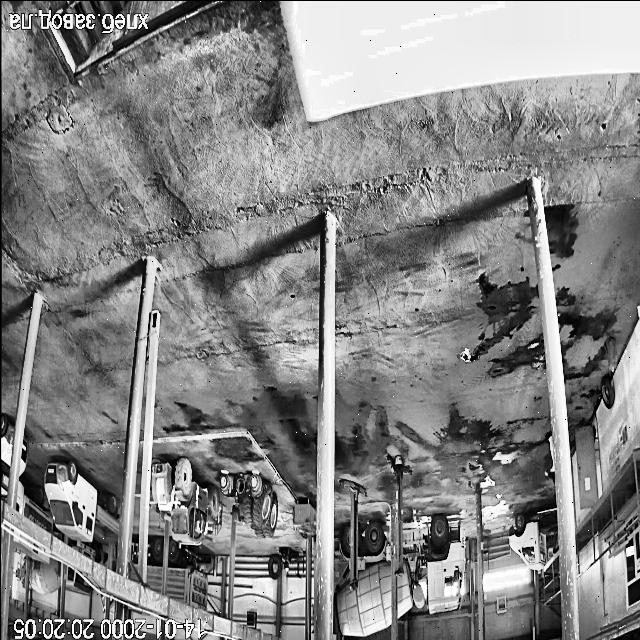class4: (545, 434, 554, 484)
class6: (151, 459, 222, 544), (220, 475, 278, 538)
class7: (396, 516, 464, 616), (334, 522, 392, 636), (44, 462, 119, 540), (167, 539, 207, 611), (508, 512, 556, 570), (19, 487, 52, 532), (0, 413, 14, 498), (29, 557, 60, 594), (146, 538, 163, 592), (13, 538, 48, 562), (66, 567, 92, 595), (73, 541, 103, 563), (130, 542, 140, 579), (20, 439, 28, 468), (17, 564, 24, 581)
truck: (387, 455, 411, 575), (340, 479, 366, 588)
